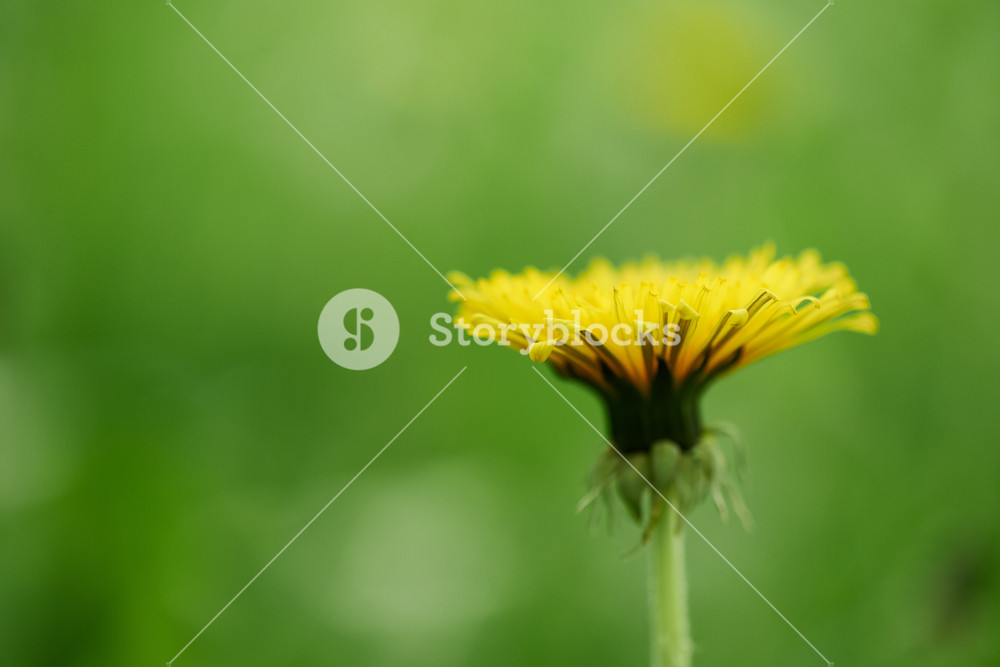dandelion: (448, 263, 853, 406)
